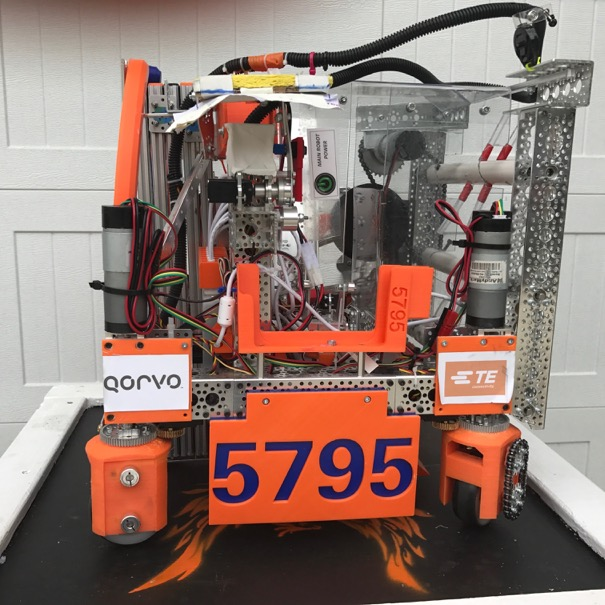robot: (80, 2, 601, 503)
